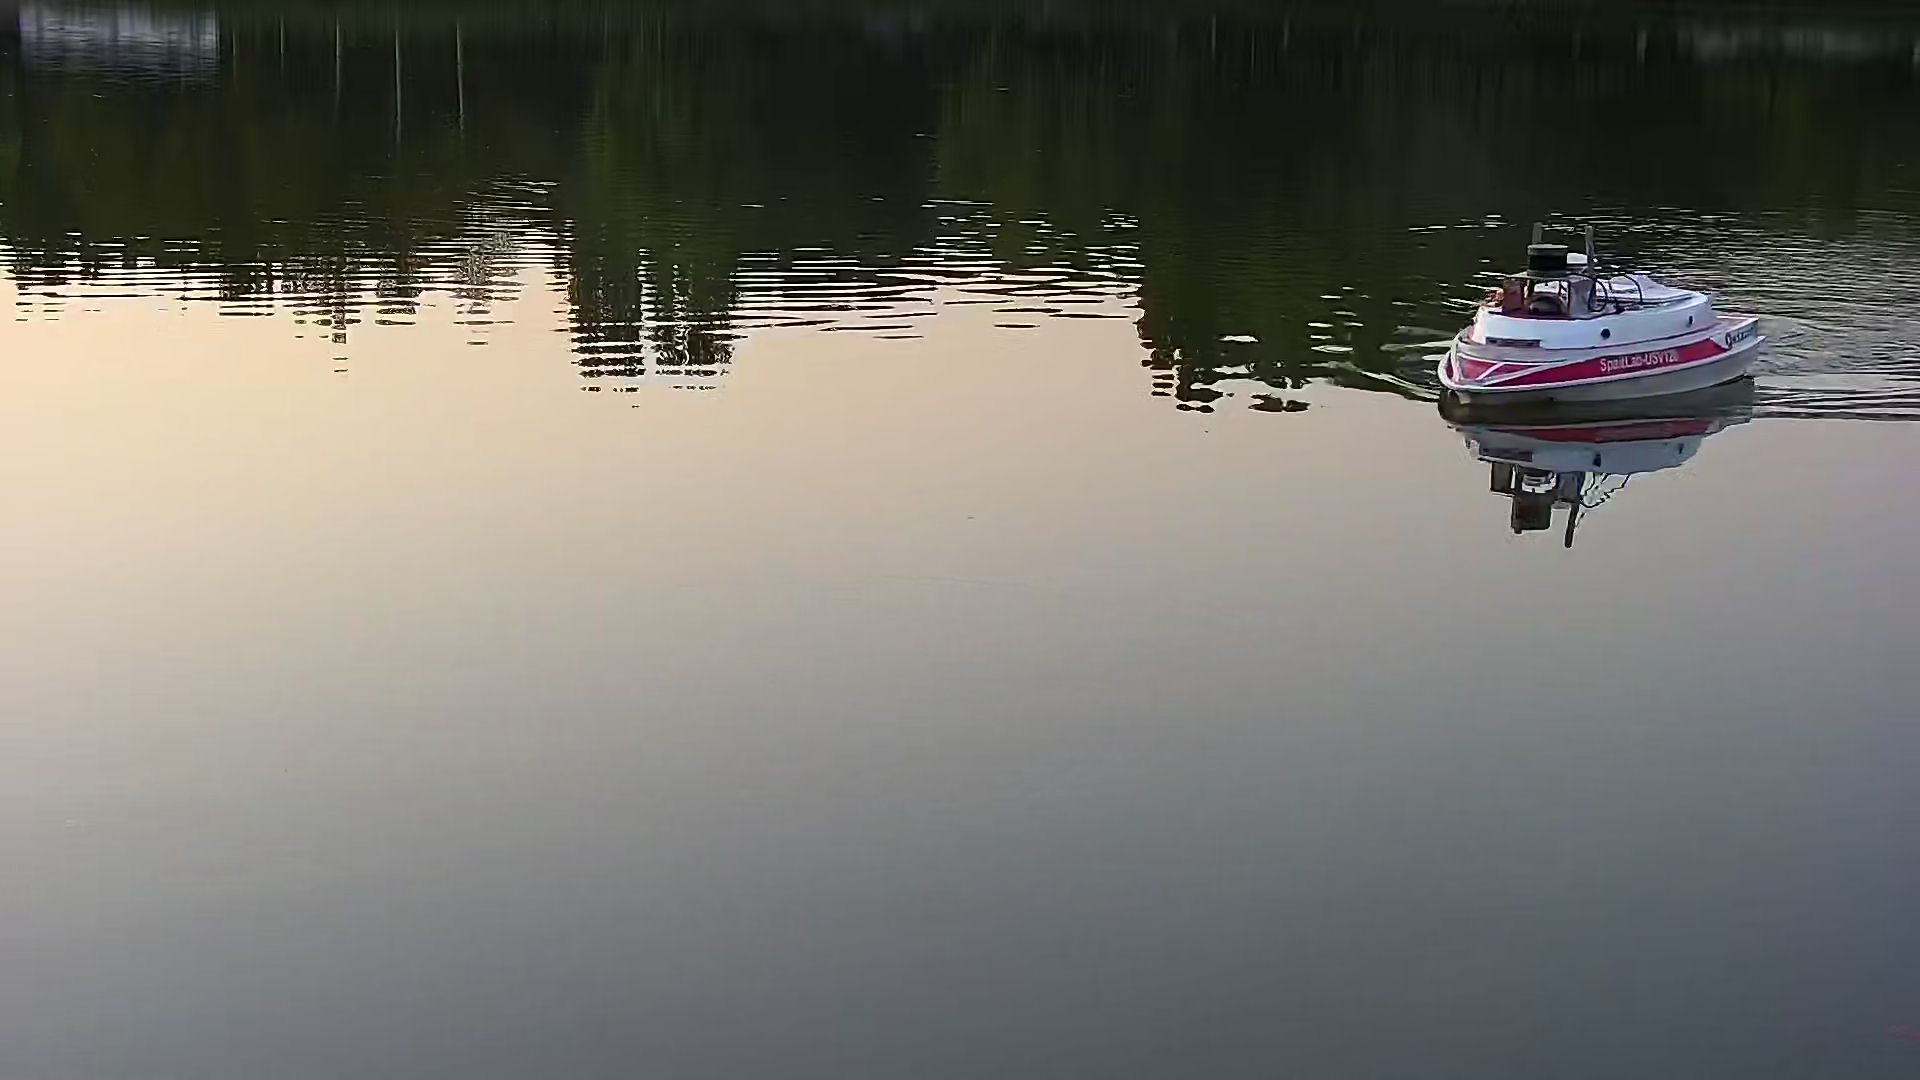boat: (1432, 225, 1768, 433)
